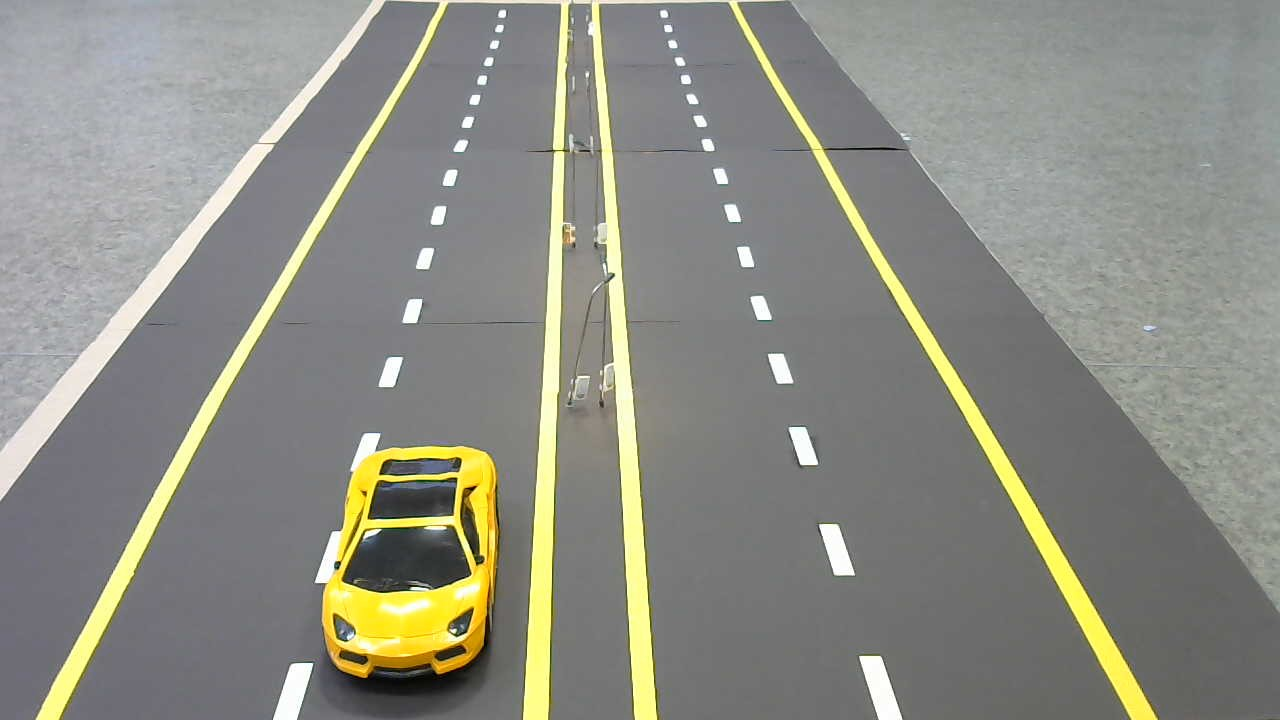front_car: (315, 441, 503, 696)
